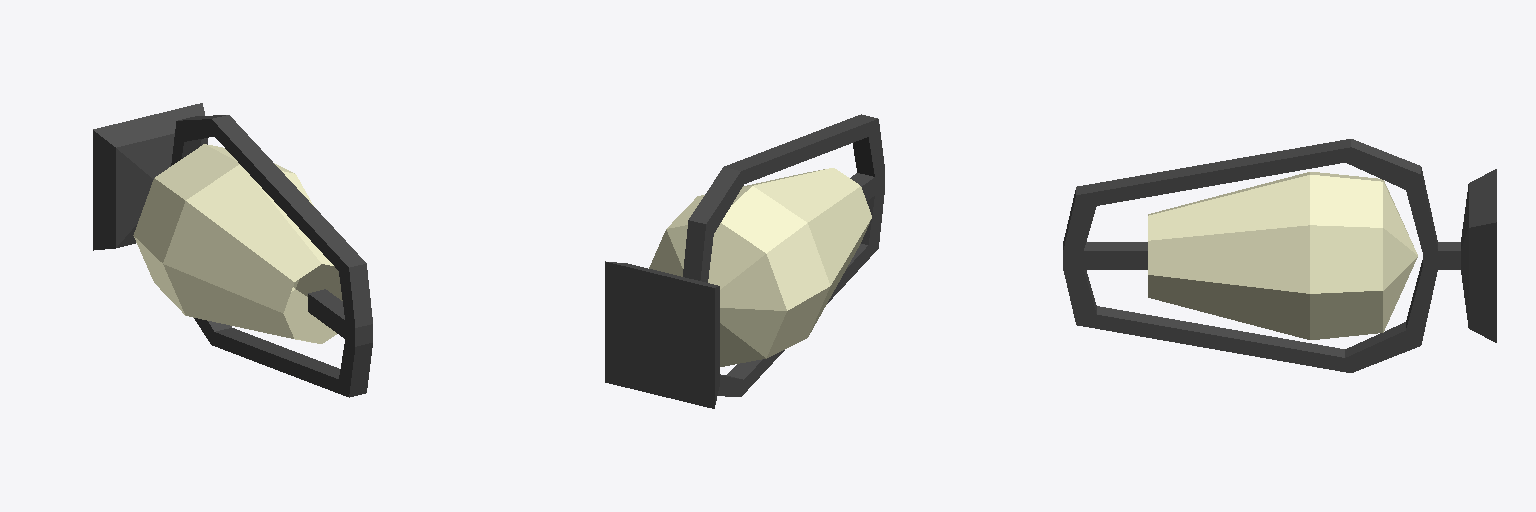
3 views of the same model, side by side, from view 1: azimuth 30°, elevation 25°; view 2: azimuth 150°, elevation 25°; view 3: azimuth 270°, elevation 25° (orthographic).
Visible parts, largest first — view 1: Bulb, Frame; view 2: Frame, Bulb; view 3: Bulb, Frame.
Part boxes in pixels (x1,y1,x2,y2): Bulb: (133,144,342,343); Frame: (93,103,372,397); Frame: (605,114,884,408); Bulb: (649,168,871,366); Bulb: (1148,172,1417,339); Frame: (1063,139,1496,372).
Bounding box in the file's own units: 0.0878 × 0.1219 × 0.2117.
Materials: 1 (1 with a texture image).